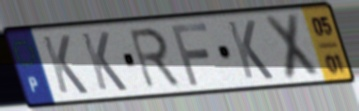F: (168, 20, 212, 88)
K: (224, 18, 276, 82), (39, 33, 91, 96), (78, 30, 130, 93)
R: (125, 25, 184, 91)
X: (261, 11, 323, 83)
